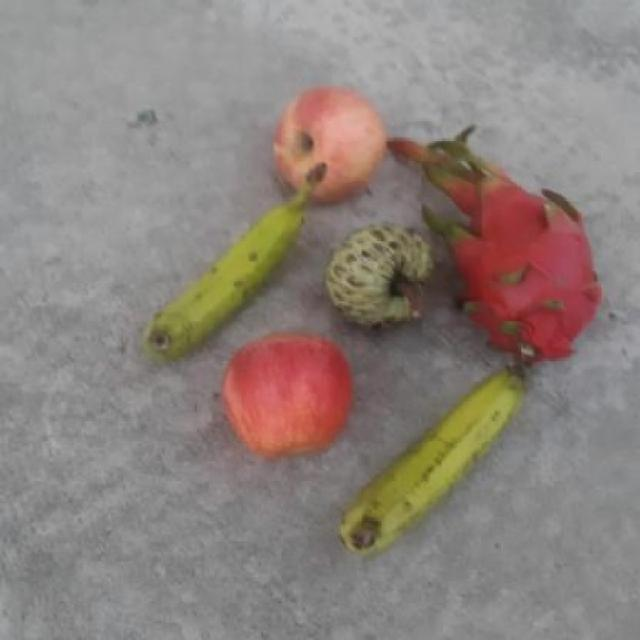apple: (218, 328, 364, 459), (269, 82, 389, 207)
banana: (138, 160, 330, 363), (337, 366, 526, 554)
dragon fruit: (446, 150, 602, 368)
sugar apple: (326, 221, 436, 334)
